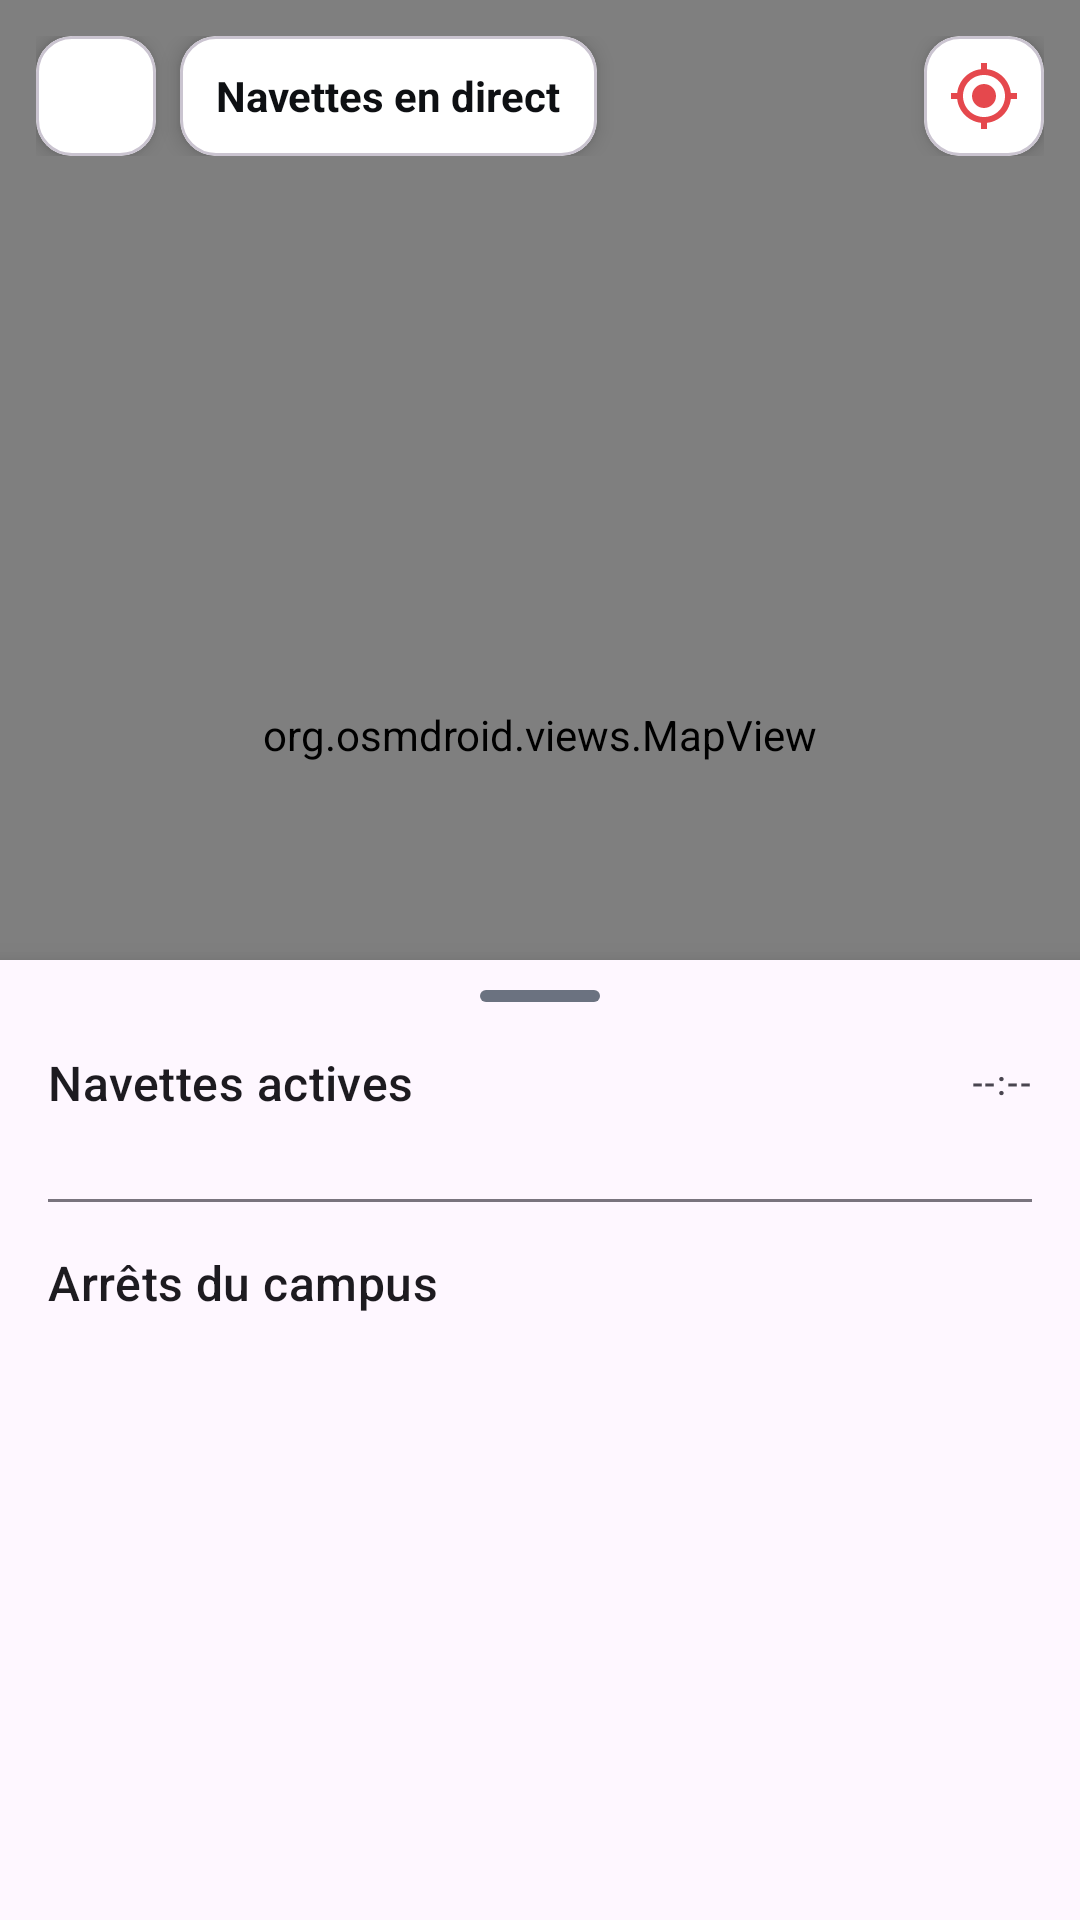

Icons on this 1080x1920 Android screen, each with the point to tap as (x=x, y=y):
gps fixed: (x=984, y=96)
